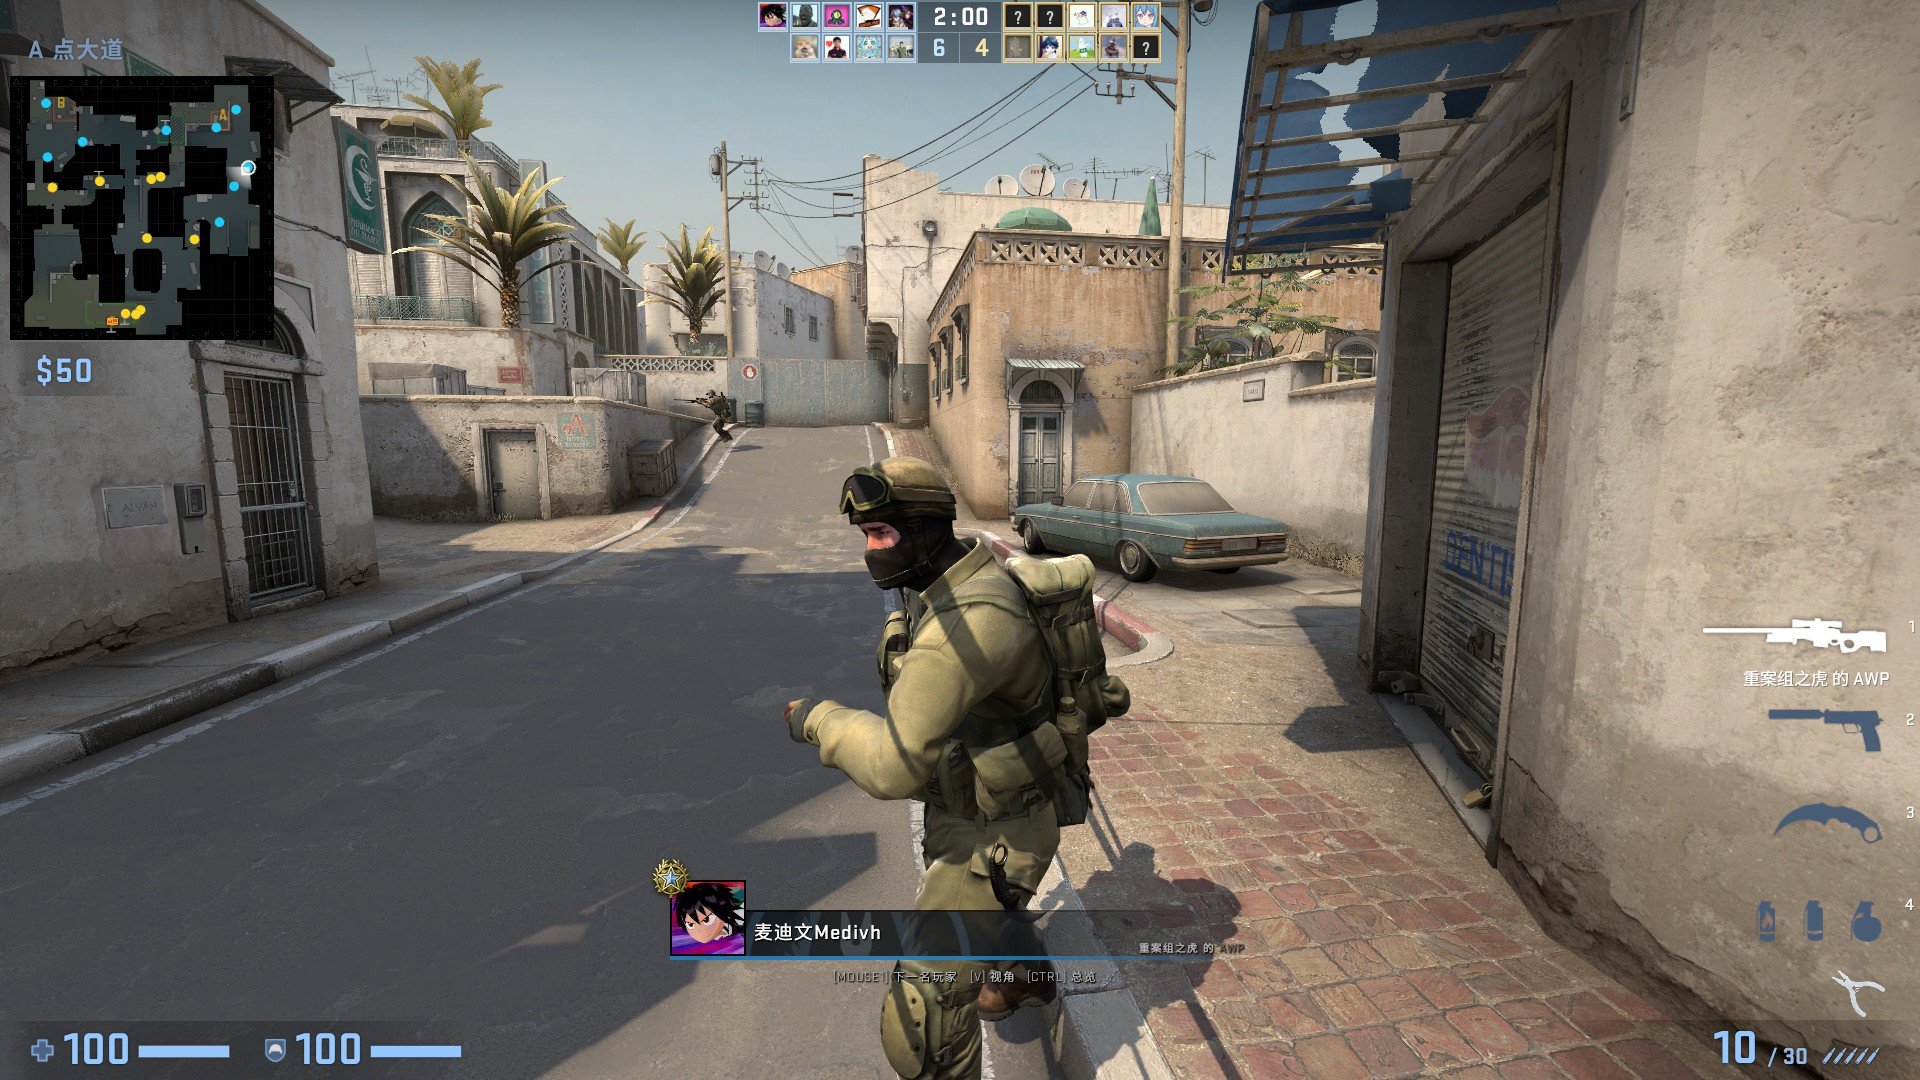head: (835, 454, 964, 585), (705, 388, 716, 399)
